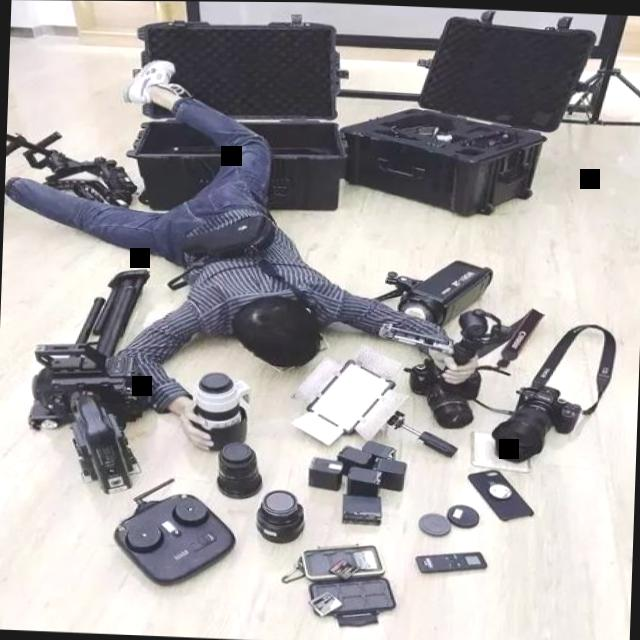Fall-Detected: (0, 48, 487, 446)
